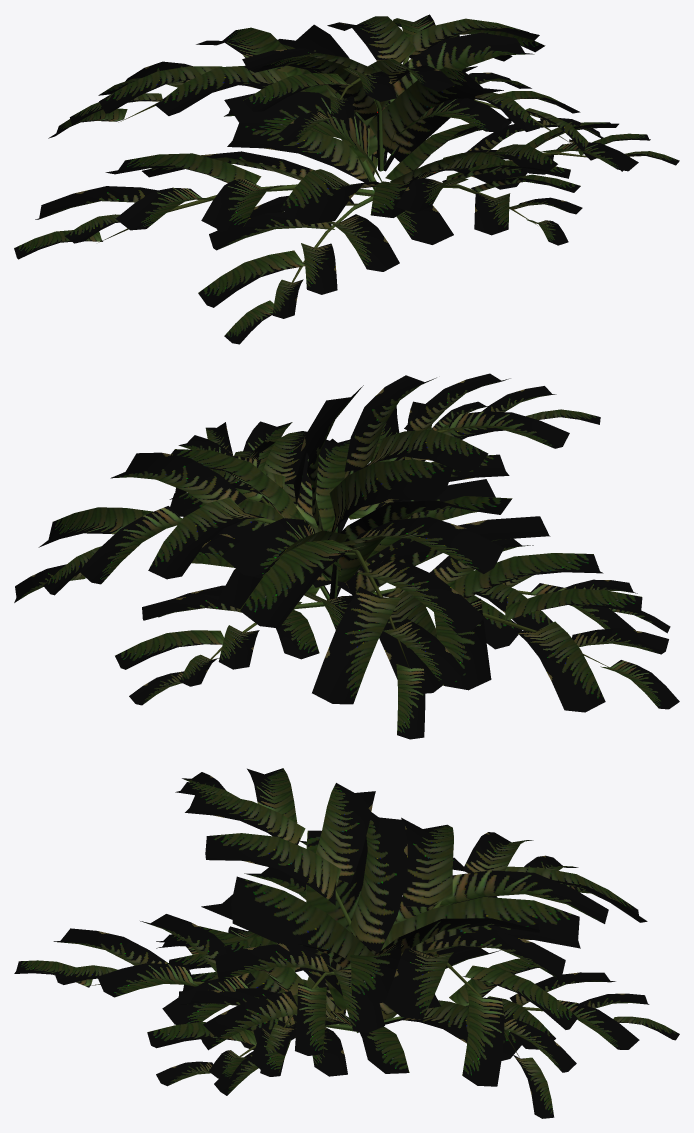
The model's file is Bush01.glb.
3 renders of one model, top to bottom at view 1: azimuth 30°, elevation 25°; view 2: azimuth 150°, elevation 25°; view 3: azimuth 270°, elevation 25°, orthographic. The views are drawn at different scales.
Parts seen in each view (by area): view 1: Bush01; view 2: Bush01; view 3: Bush01.
Part boxes in pixels (x1,y1,x2,y2): Bush01: (14, 14, 679, 344); Bush01: (14, 373, 679, 739); Bush01: (14, 768, 679, 1118).
Size of the model in its own units: 10.91 by 3.95 by 10.61.
1 material, 1 textured.
